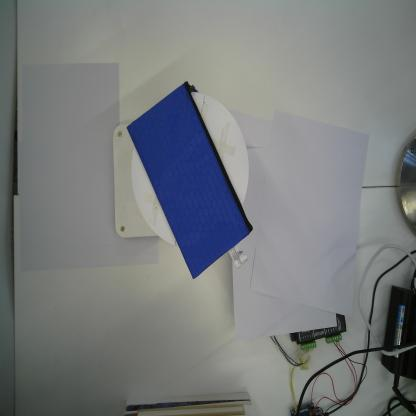Stationery: (124, 80, 254, 281)
